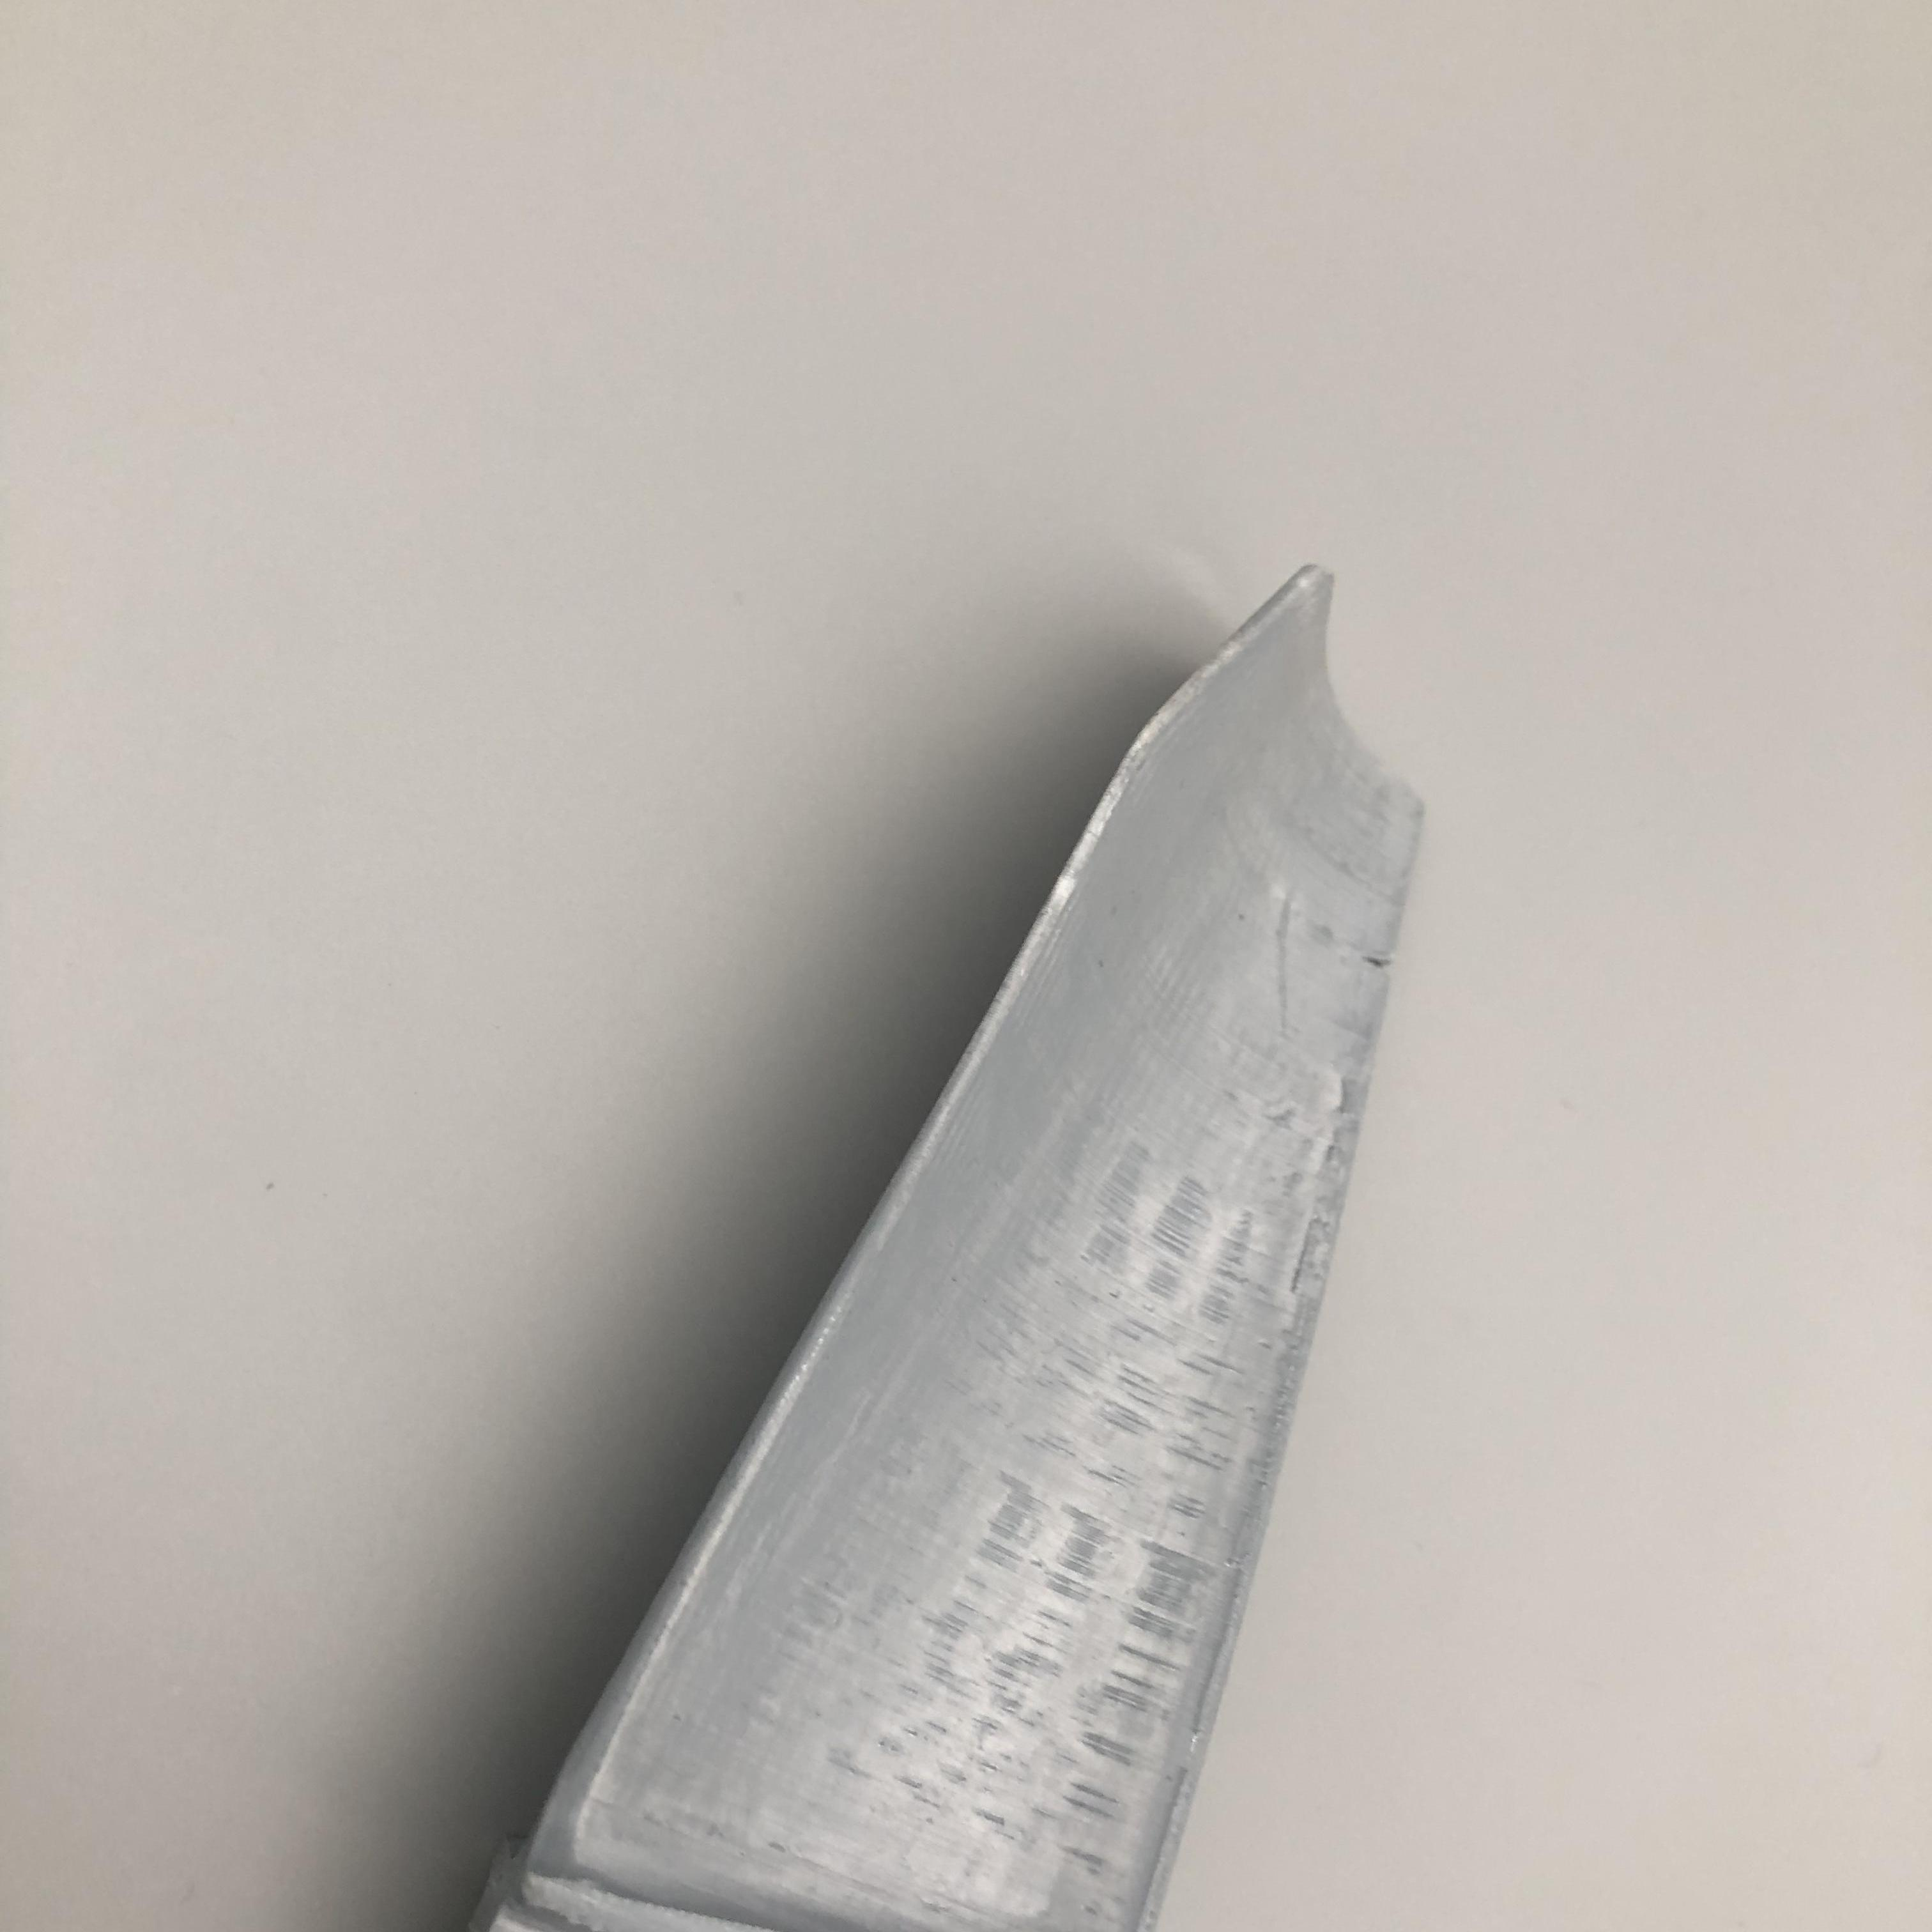groove: (1362, 945, 1392, 980)
